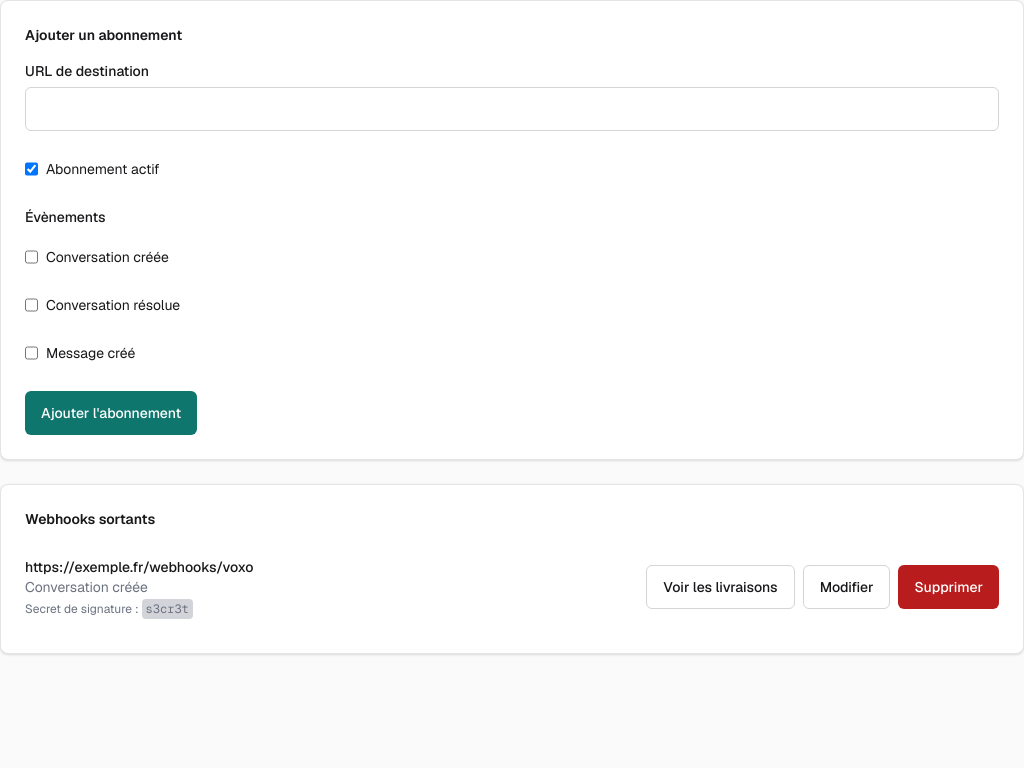
WebhookSubscriptionsPage › affiche l historique des livraisons
Expected: the text "https://exemple.fr/webhooks/voxo" is shown, [25,557,254,577]
Click the button "Voir les livraisons". click: coordinates (720, 587)
box: [646,565,795,609]
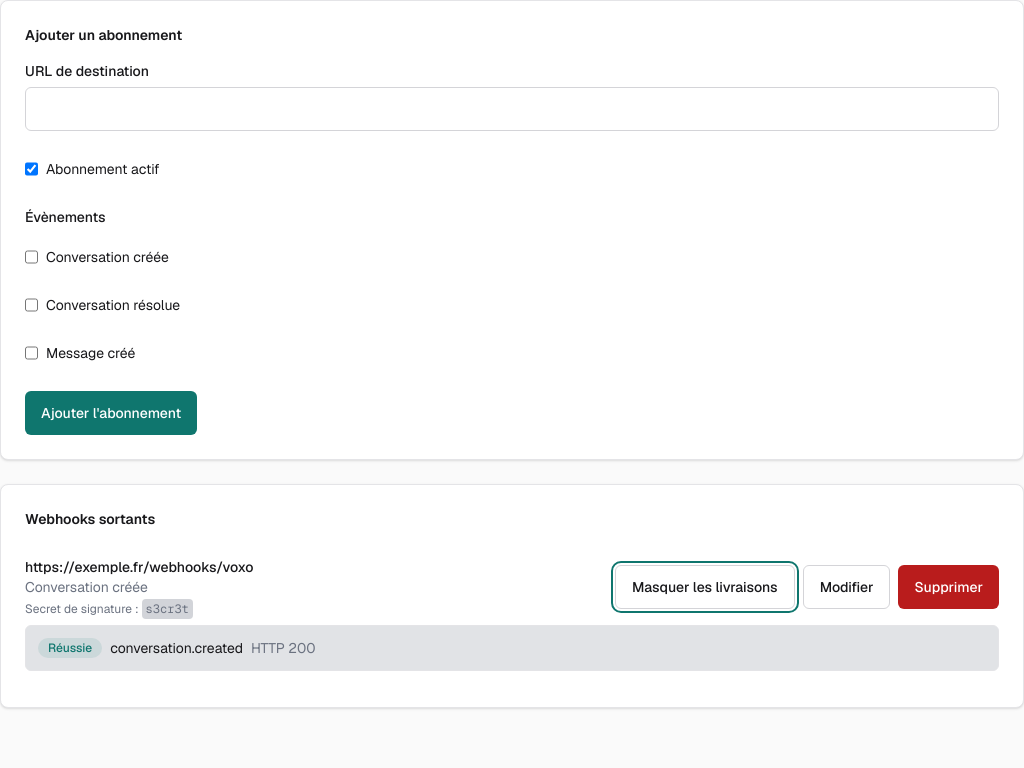
Expected: the text "Réussie" is shown, [38,638,102,658]
Expected: the text "HTTP 200" is shown, [251,638,316,658]
